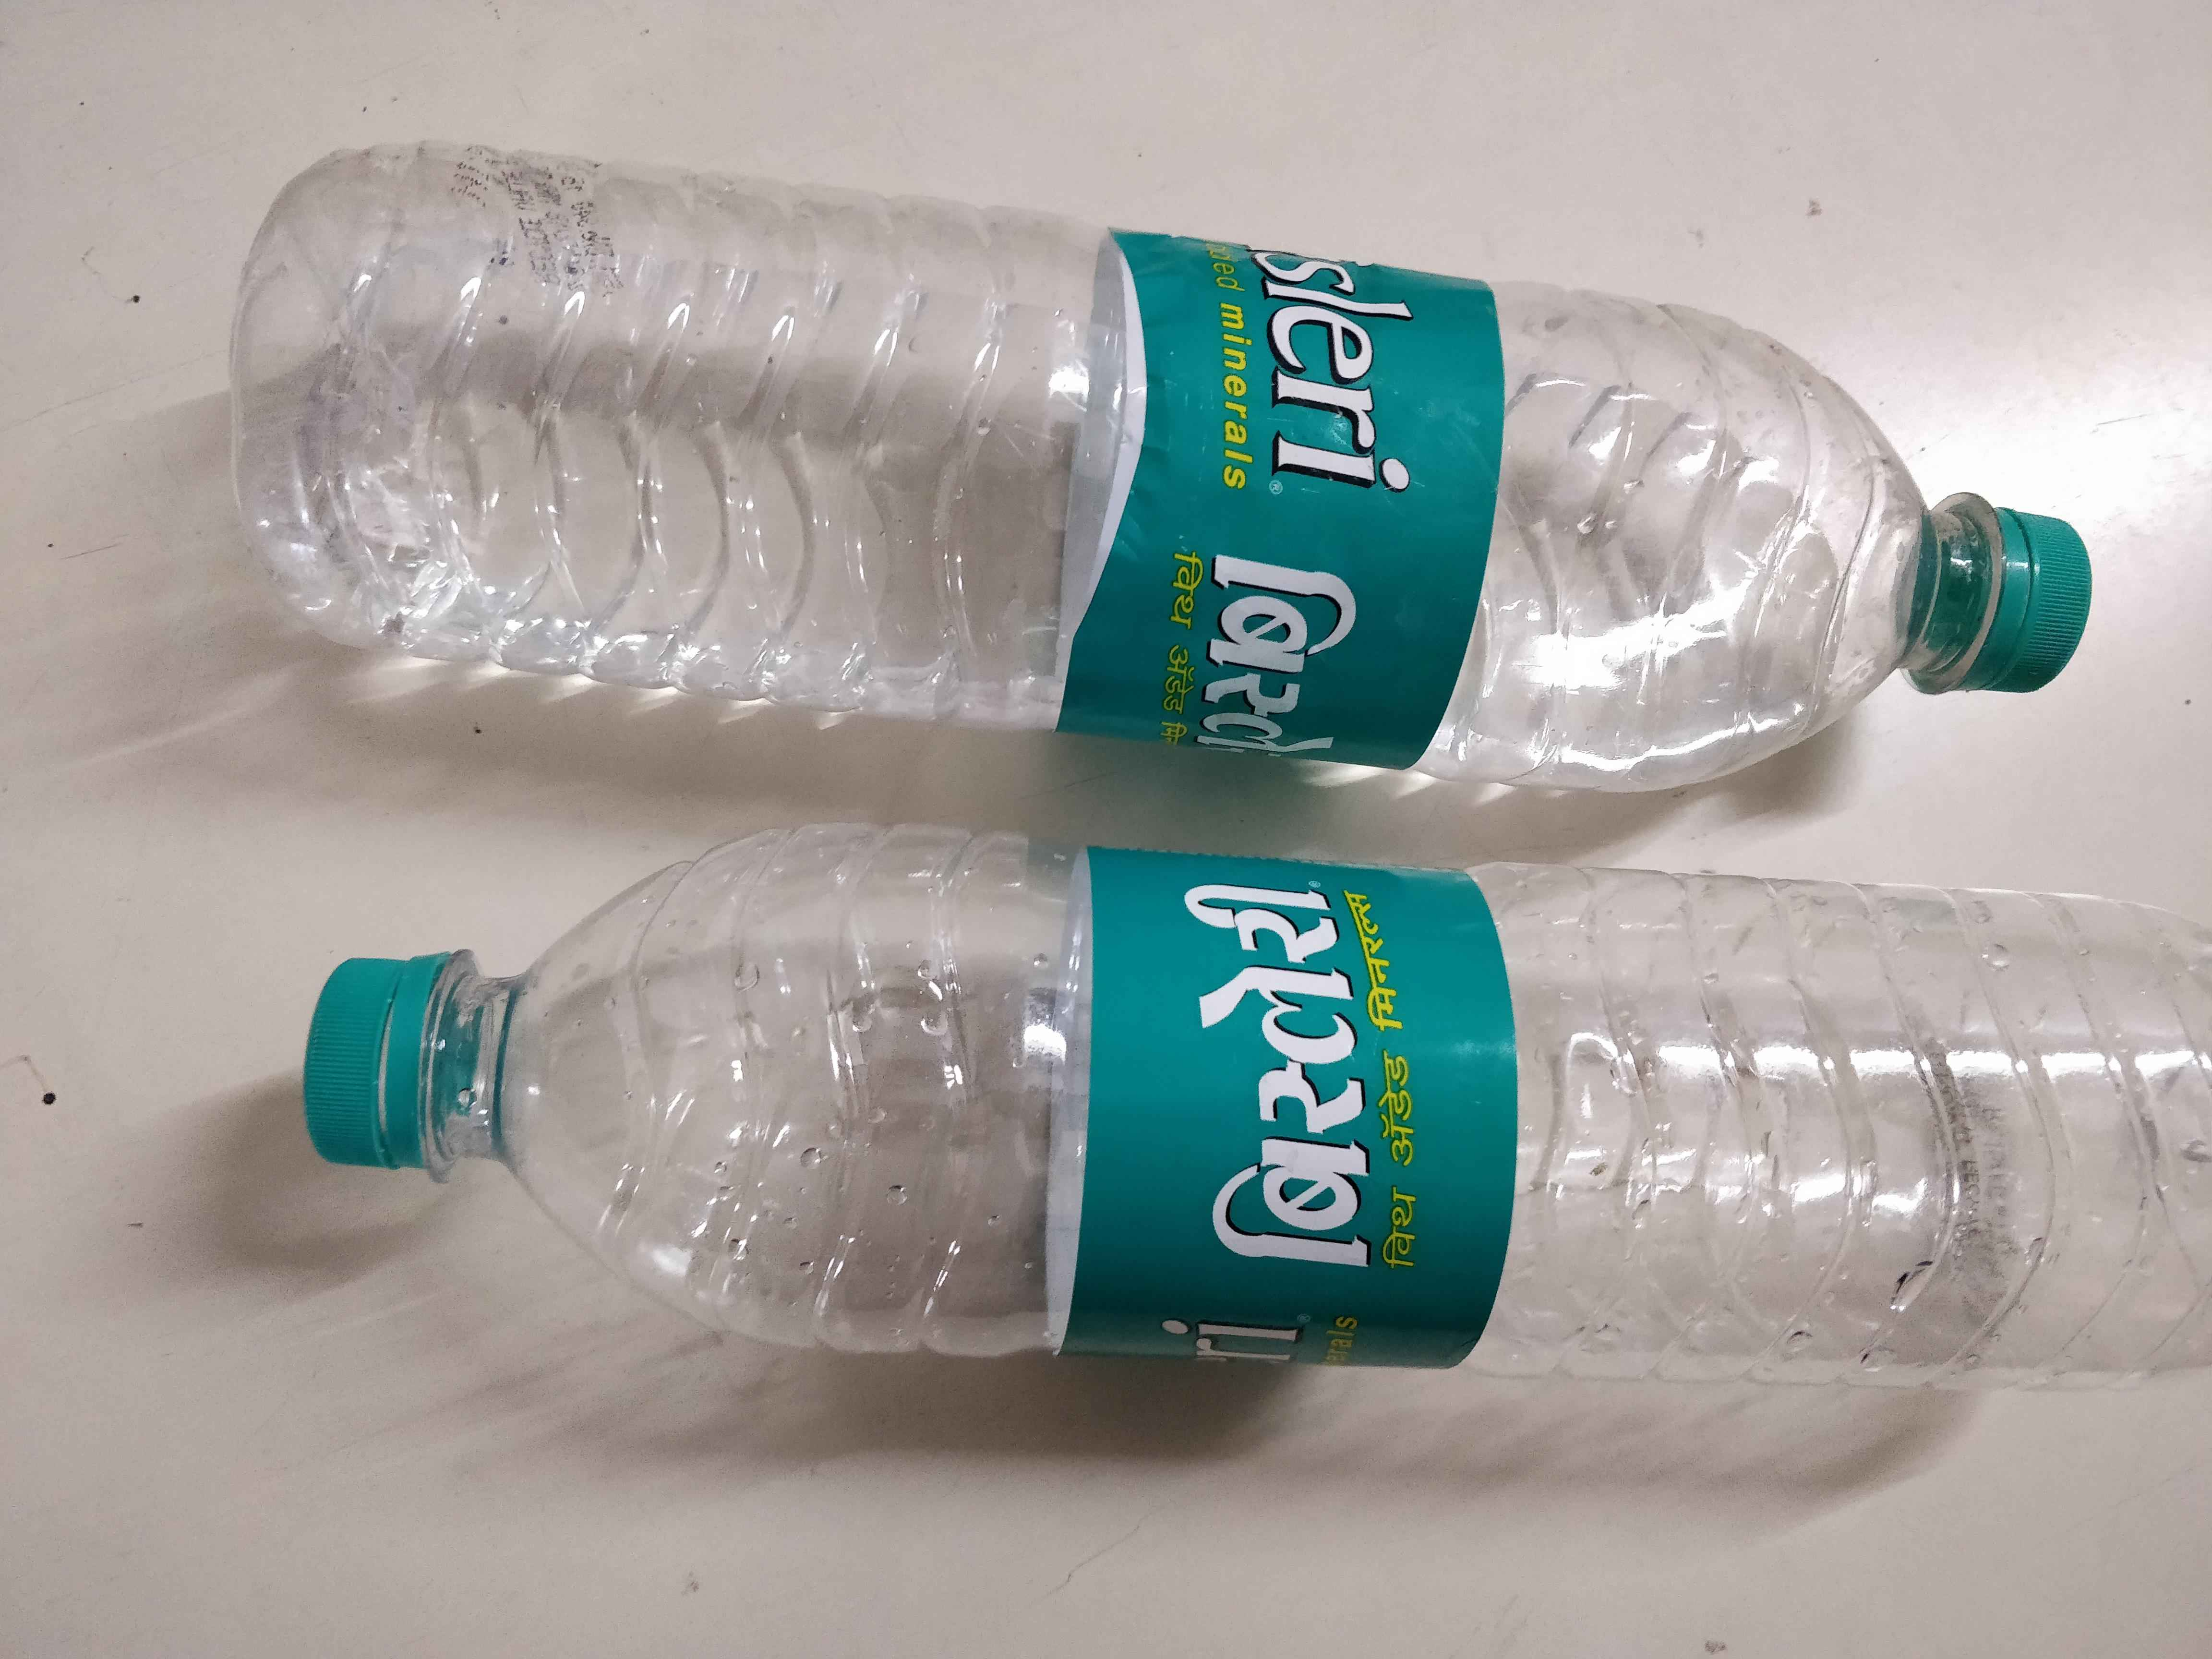Bisleri: (1118, 856, 1460, 1368), (1143, 230, 1420, 782)
